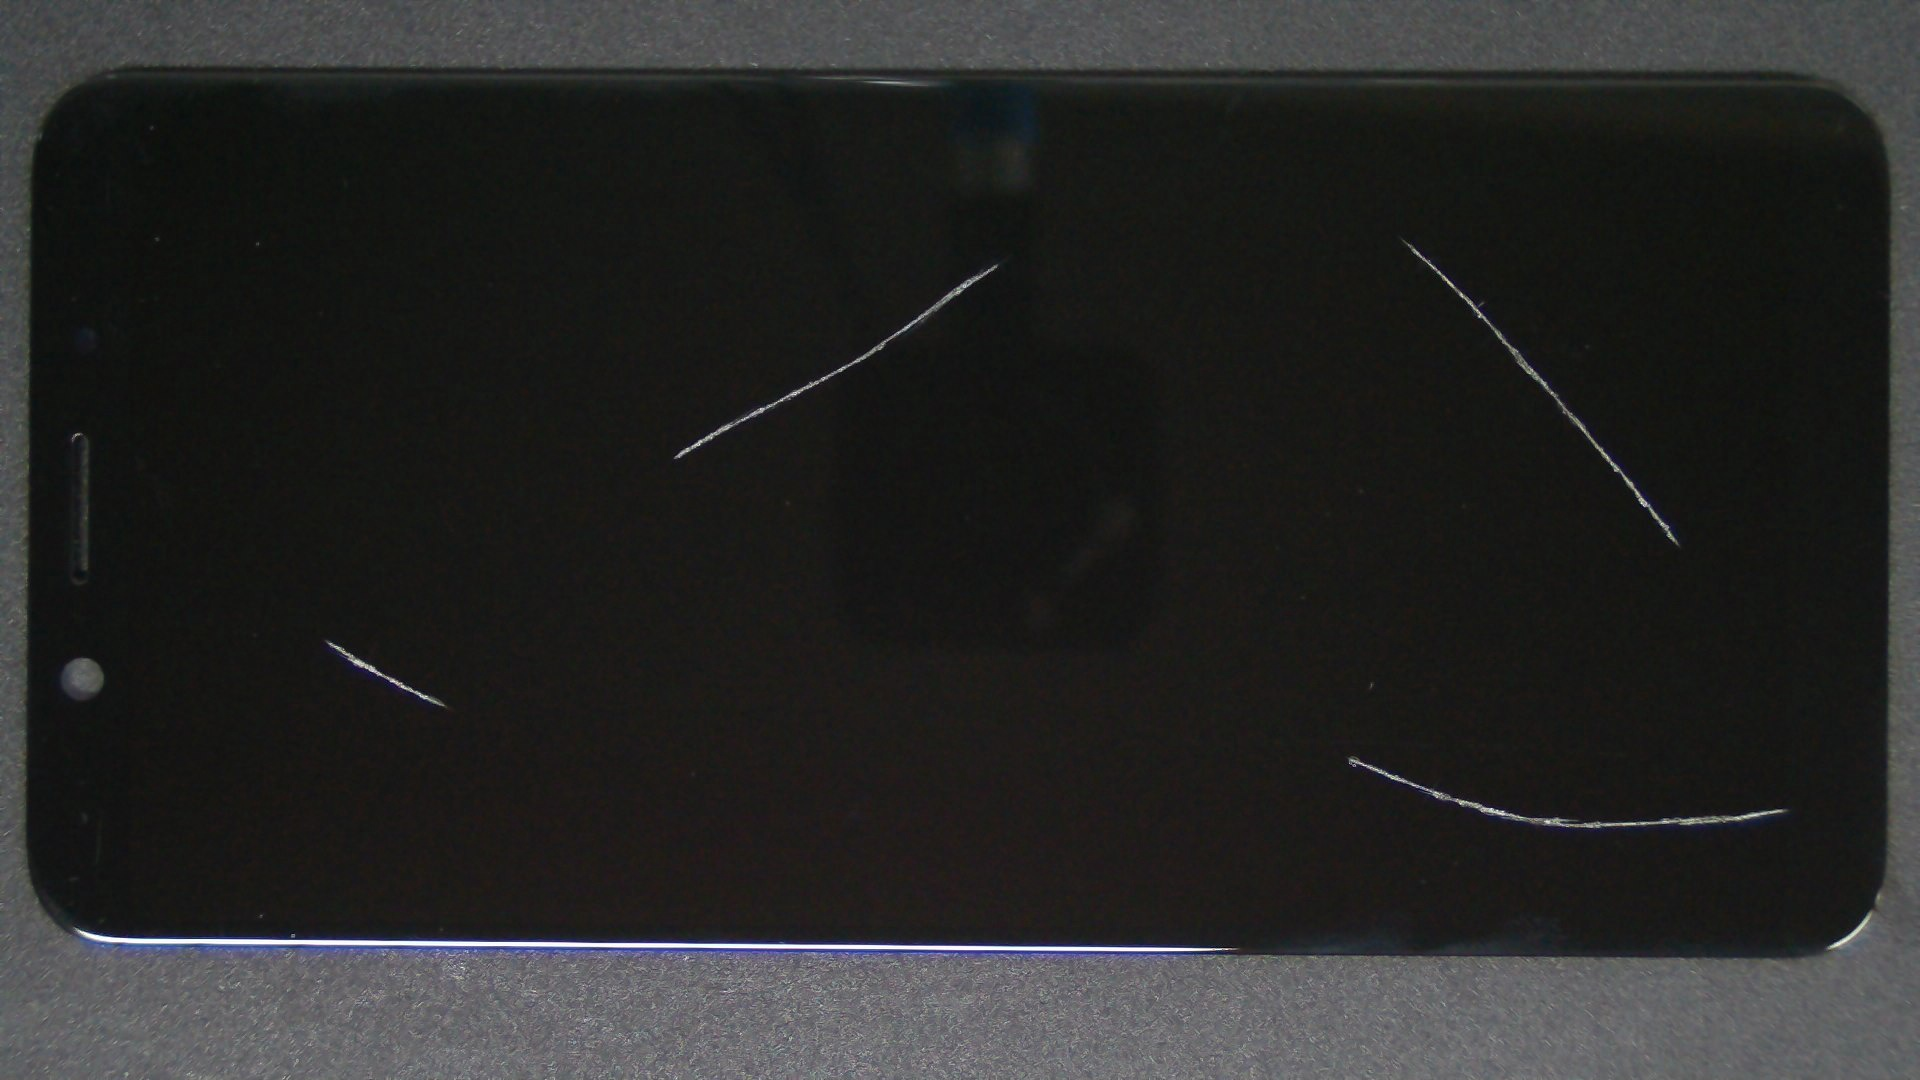oil: (676, 377, 1920, 1080), (699, 117, 1920, 356), (498, 129, 1487, 398), (164, 319, 488, 959)
